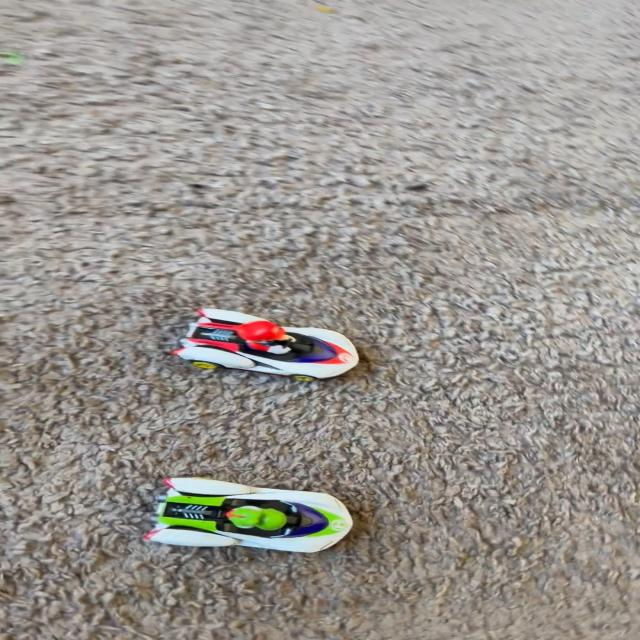mario: (165, 301, 378, 396)
yoshi: (129, 452, 367, 566)
